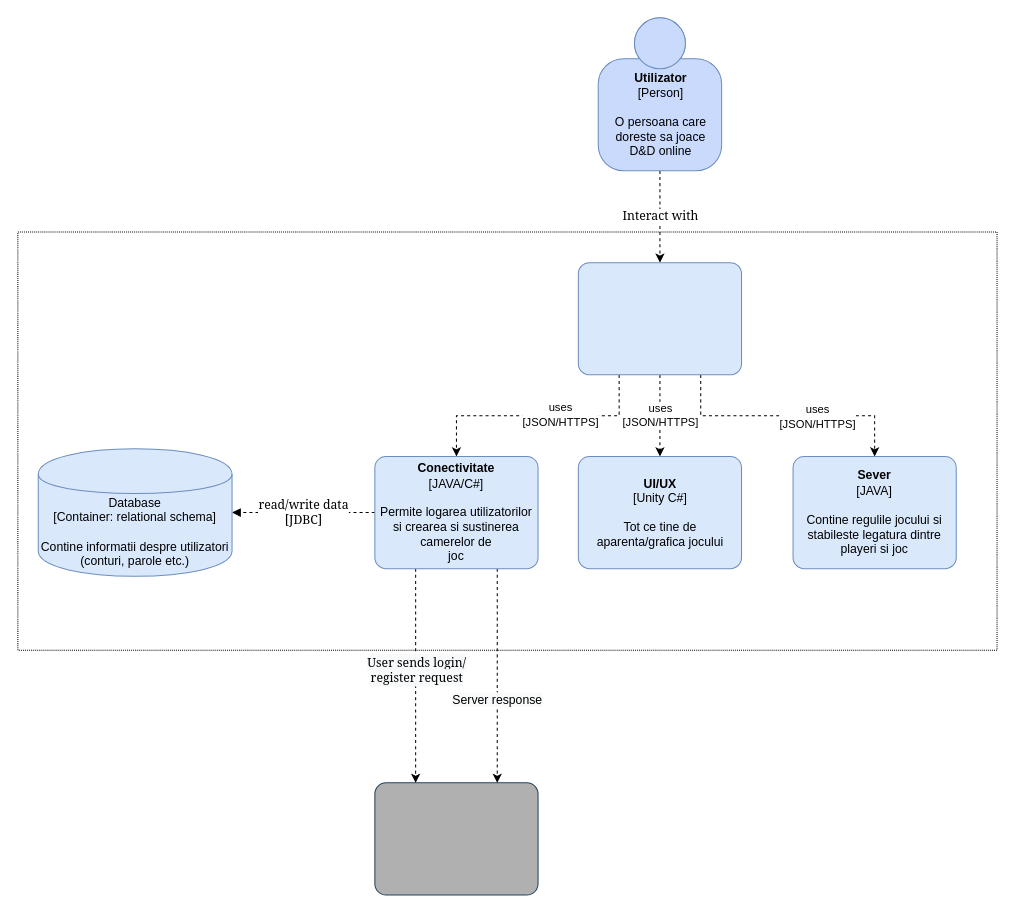
The diagram is 1015 pixels wide and 913 high, and some of its shapes have lost their labels. Each missing label, with the box of its shape:
Account Managing System [Software system ] Rezolva cererile de login/register: (374, 782, 538, 895)
Dungeons and Dragons [Desktop App] Permite utilizatorilor sa joace D&D: (577, 262, 742, 375)
